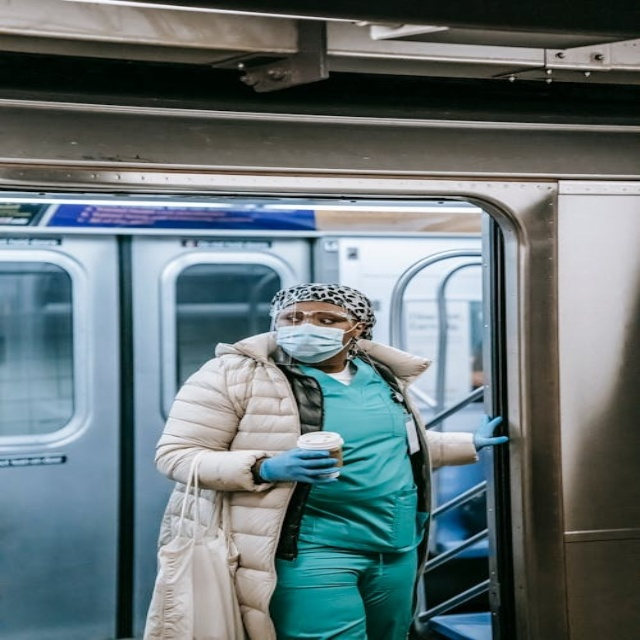Gafas: (274, 309, 358, 327)
Guantes: (258, 448, 340, 484), (473, 415, 512, 451)
Mascara: (273, 321, 351, 363)
